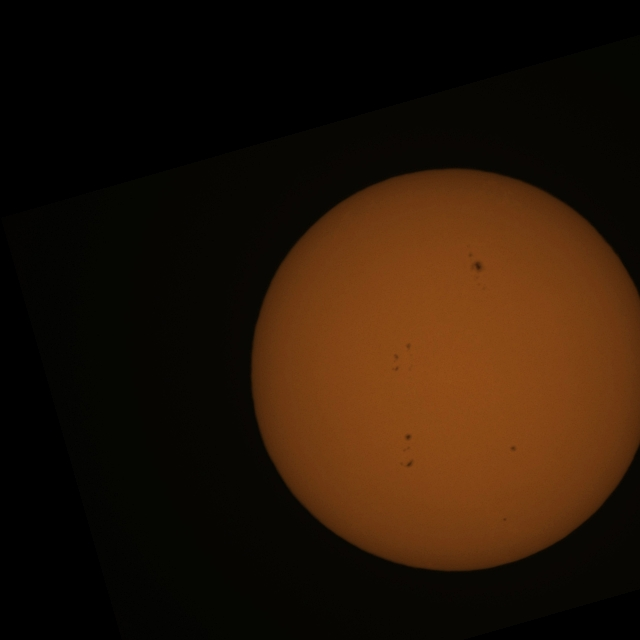sunspot: (468, 251, 484, 278), (401, 433, 414, 460), (399, 458, 414, 468), (393, 352, 400, 366), (404, 433, 412, 442), (405, 342, 412, 352), (510, 444, 518, 452), (393, 364, 400, 372), (502, 517, 507, 522)
